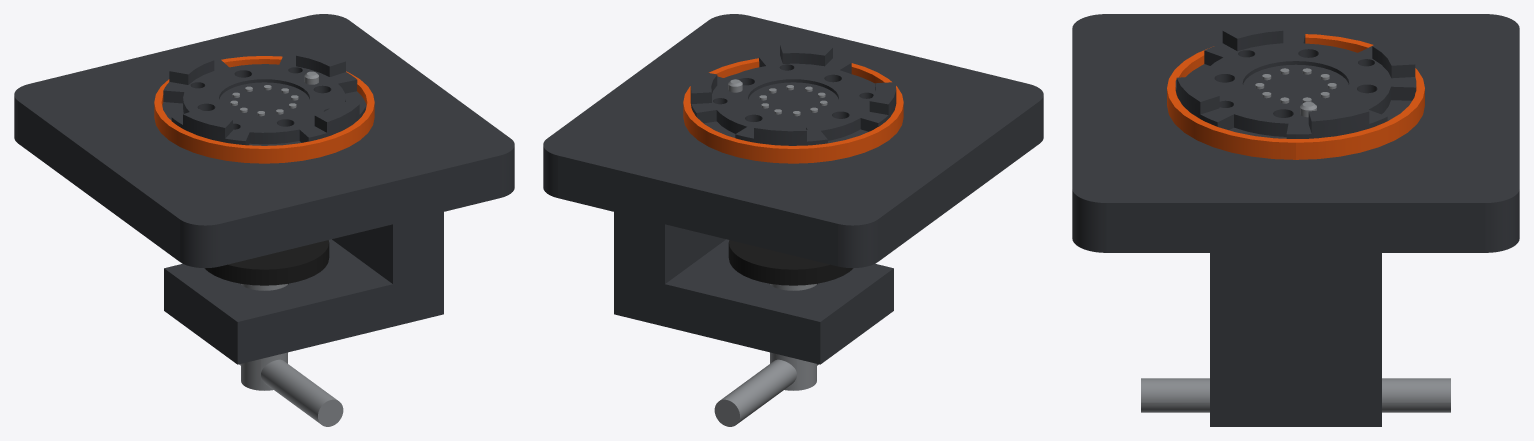
Rendered from module_table_clamp.glb.
3 views of the same model, side by side, from view 1: azimuth 30°, elevation 25°; view 2: azimuth 150°, elevation 25°; view 3: azimuth 270°, elevation 25° (orthographic). The views are drawn at different scales.
Parts seen in each view (by area): view 1: clamp_frame, clamp_port_out_flange, clamp_port_out_ring, clamp_spindle, clamp_pad; view 2: clamp_frame, clamp_port_out_flange, clamp_port_out_ring, clamp_spindle, clamp_pad; view 3: clamp_frame, clamp_port_out_flange, clamp_port_out_ring, clamp_spindle, clamp_port_out_pads.
Boxes of the visible parts, box(x1,y1,x2,y2) form: clamp_frame: box(14, 14, 514, 364); clamp_port_out_flange: box(162, 47, 366, 145); clamp_port_out_ring: box(154, 56, 374, 163); clamp_spindle: box(239, 284, 343, 426); clamp_pad: box(204, 240, 329, 285); clamp_frame: box(543, 14, 1043, 364); clamp_port_out_flange: box(690, 44, 896, 145); clamp_port_out_ring: box(683, 58, 903, 163); clamp_spindle: box(714, 284, 818, 426); clamp_pad: box(728, 240, 853, 285); clamp_frame: box(1072, 14, 1519, 426); clamp_port_out_flange: box(1175, 20, 1416, 138); clamp_port_out_ring: box(1167, 34, 1424, 159); clamp_spindle: box(1141, 378, 1450, 412); clamp_port_out_pads: box(1255, 68, 1336, 103).
Bounding box in the file's own units: 0.13 × 0.11 × 0.13.
